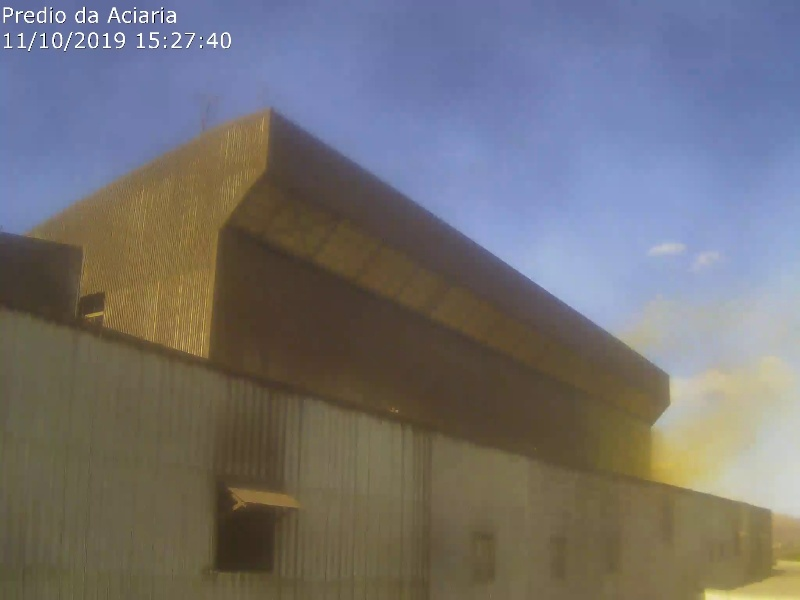bom: (397, 1, 777, 248), (2, 1, 392, 222)
ruim: (579, 280, 800, 489)
